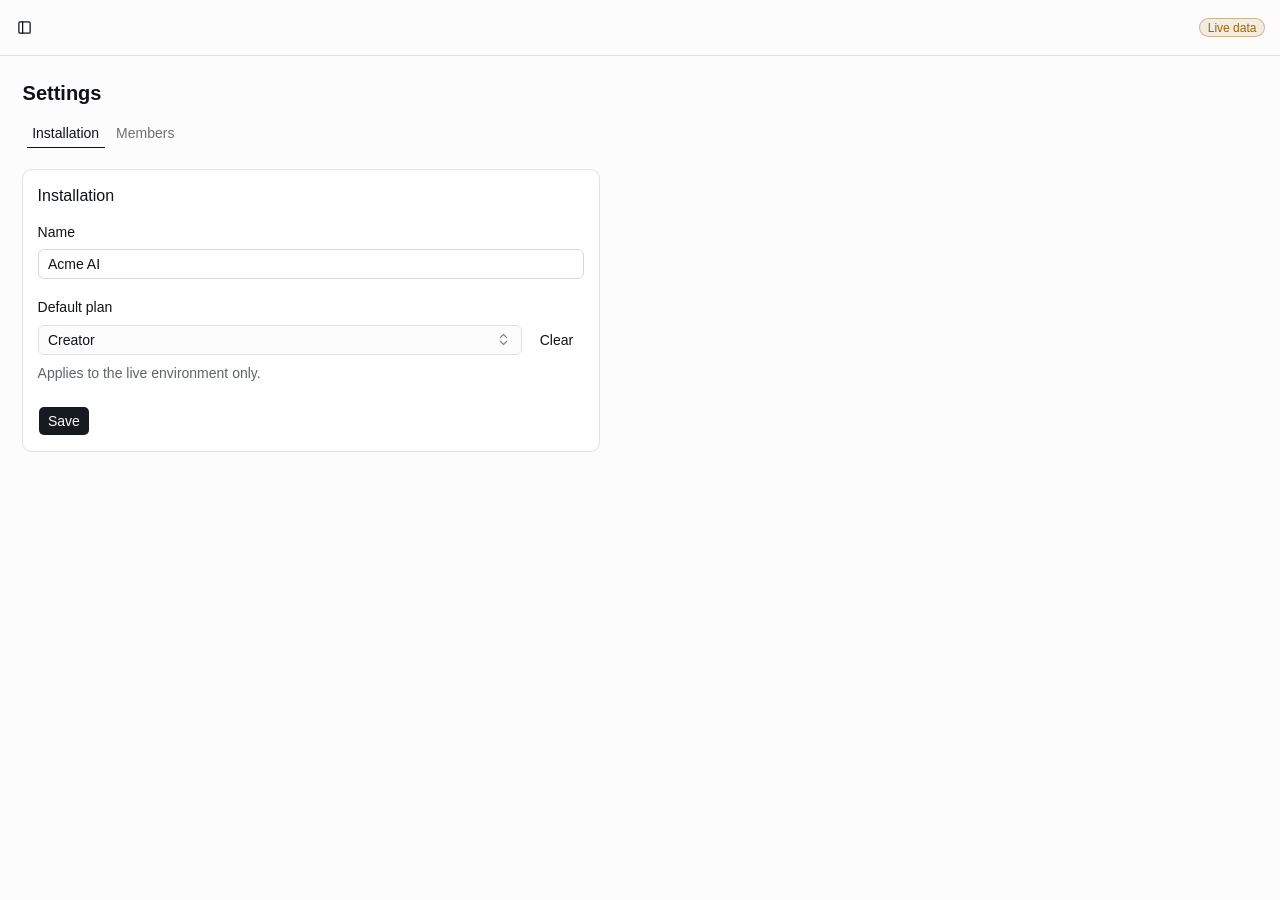
clearing the default plan sends null
The image size is (1280, 900).
Expected: the text "Creator" is shown, [48,330,95,350]
Click the button with aria-label "Clear default plan".
click(556, 340)  # box [529,325,584,355]
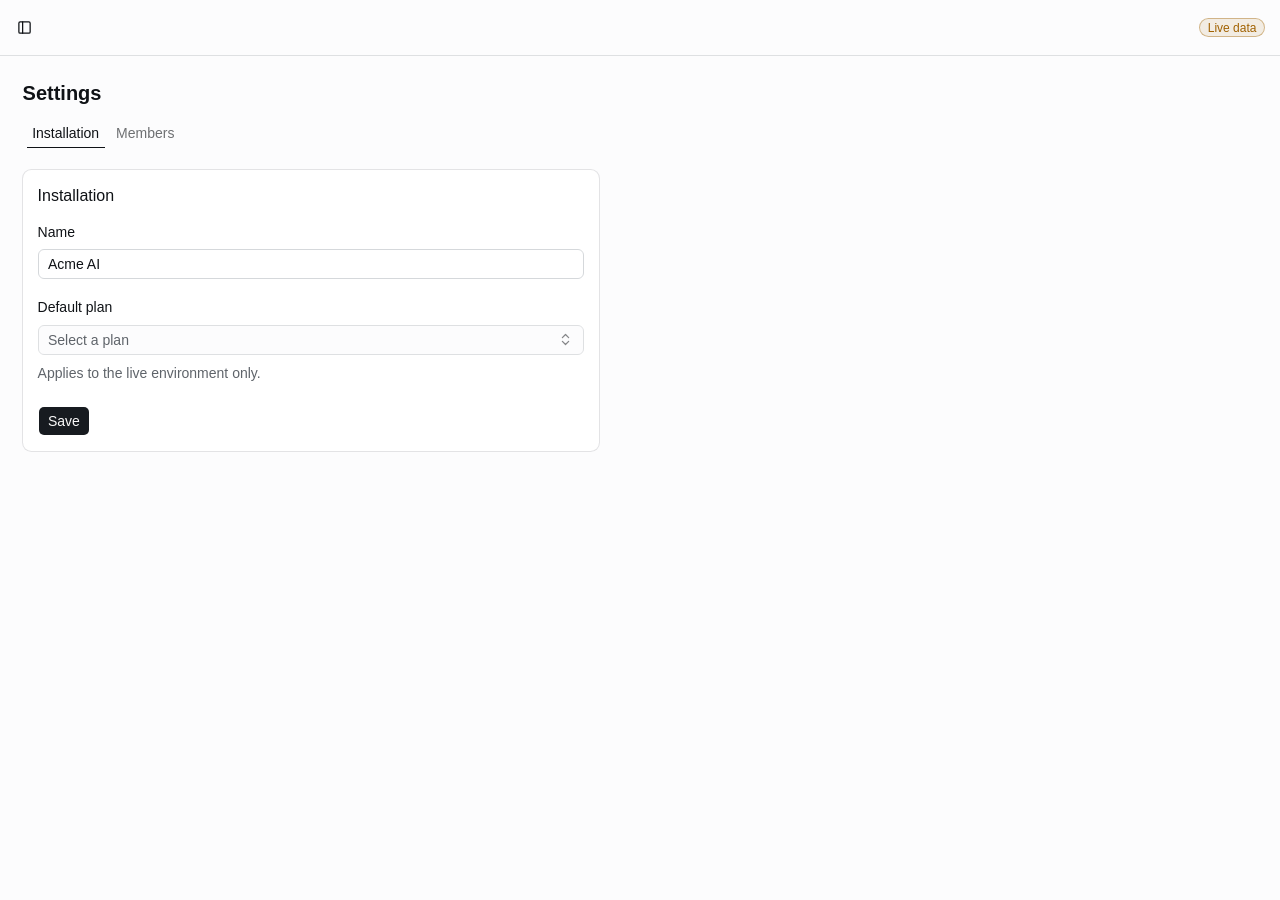
Click the button "Save".
click(64, 421)  # box [38,406,90,436]
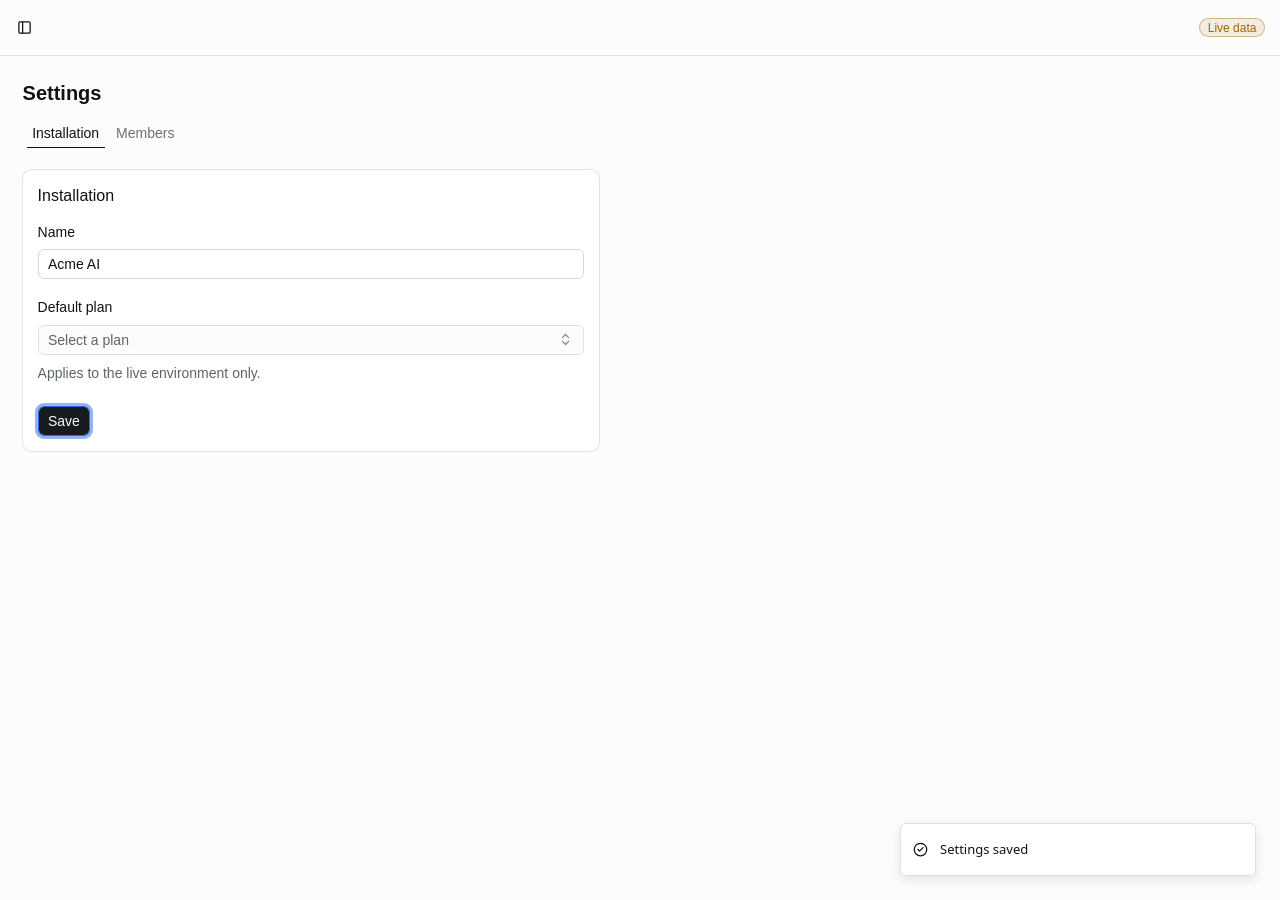
Expected: the text "Settings saved" is shown, [940,840,1028,859]
